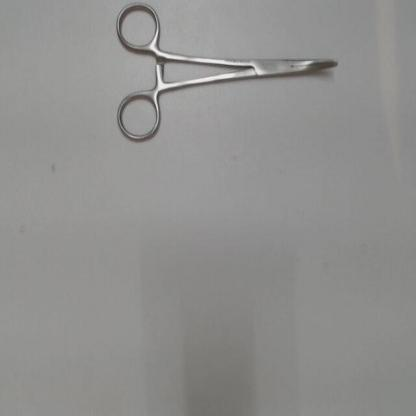Crile Artery Forceps: (113, 2, 345, 144)
